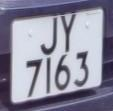1: (42, 55, 54, 98)
3: (72, 48, 93, 93)
6: (52, 53, 74, 94)
7: (22, 56, 45, 100)
J: (36, 14, 61, 60)
Y: (58, 12, 79, 57)
